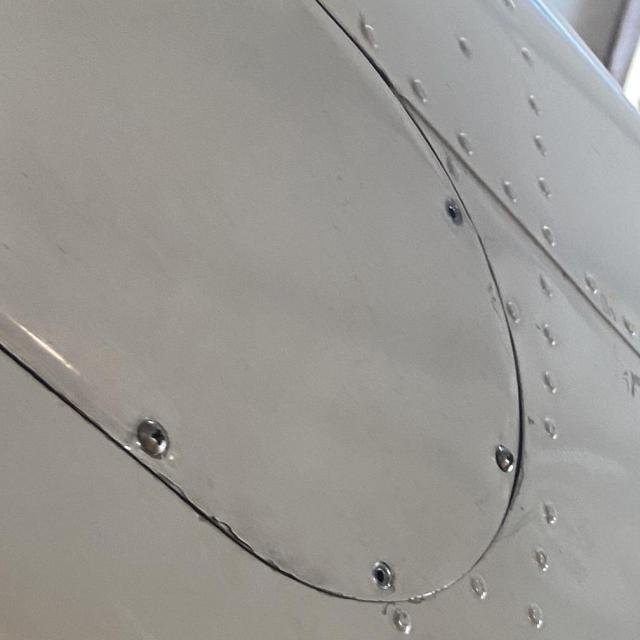Missing-head: (370, 559, 396, 591), (443, 194, 465, 224)
